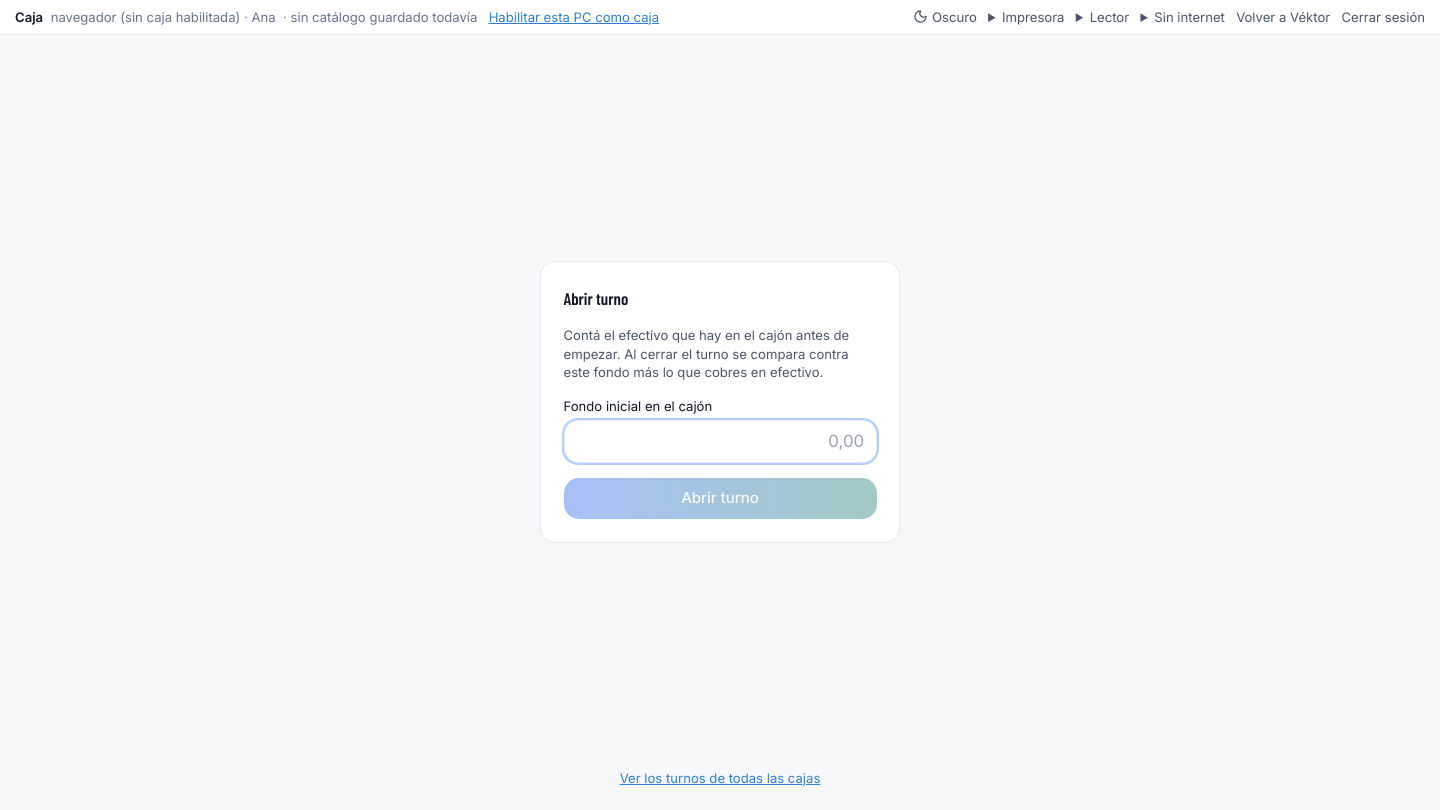
Test: apertura › si el servidor tiene otro fondo, la caja toma el real y lo avisa
Type "5000" into the field labelled "Fondo inicial" at (720, 441), box [564,420,876,463]
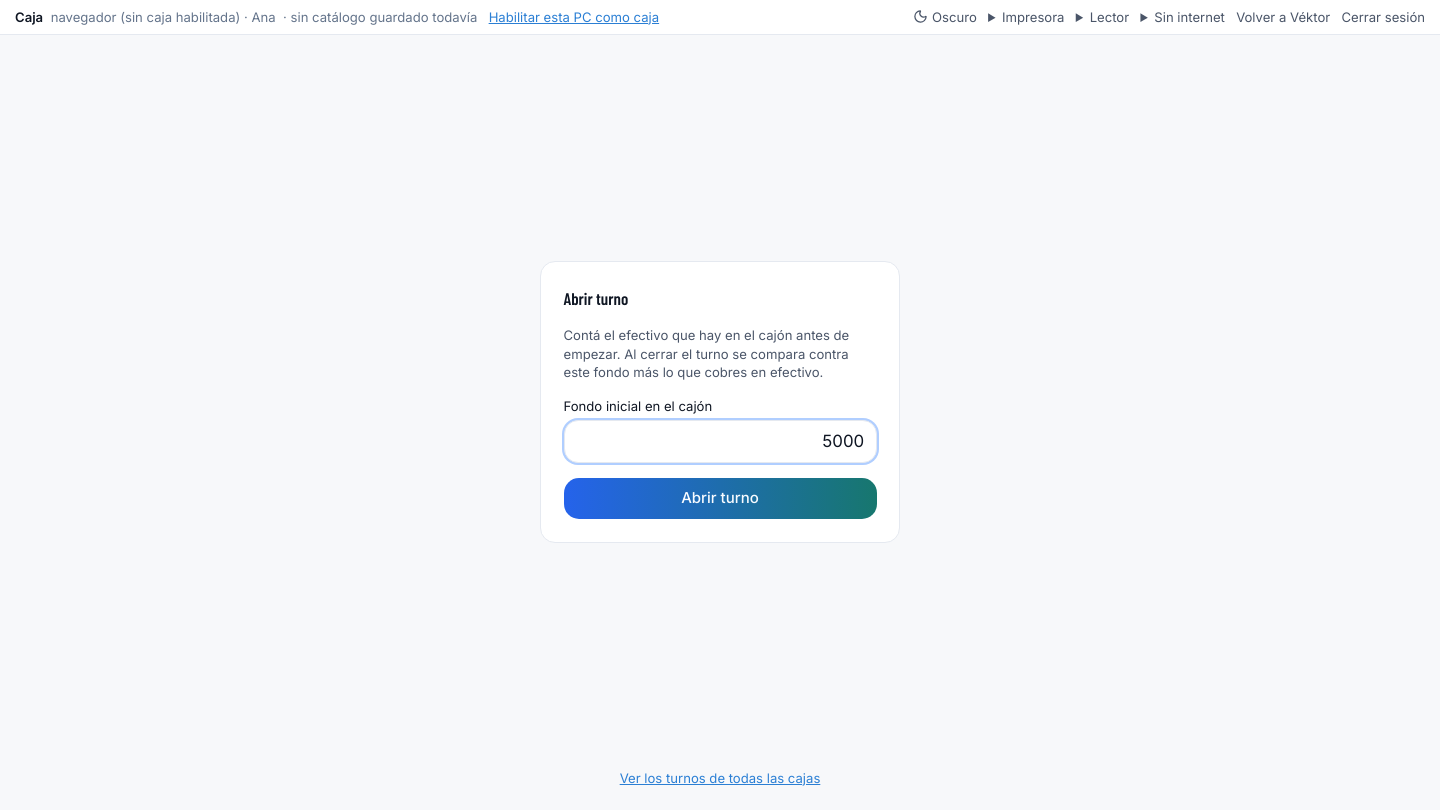
Click the button "Abrir turno" at (720, 498), box [564,478,876,519]
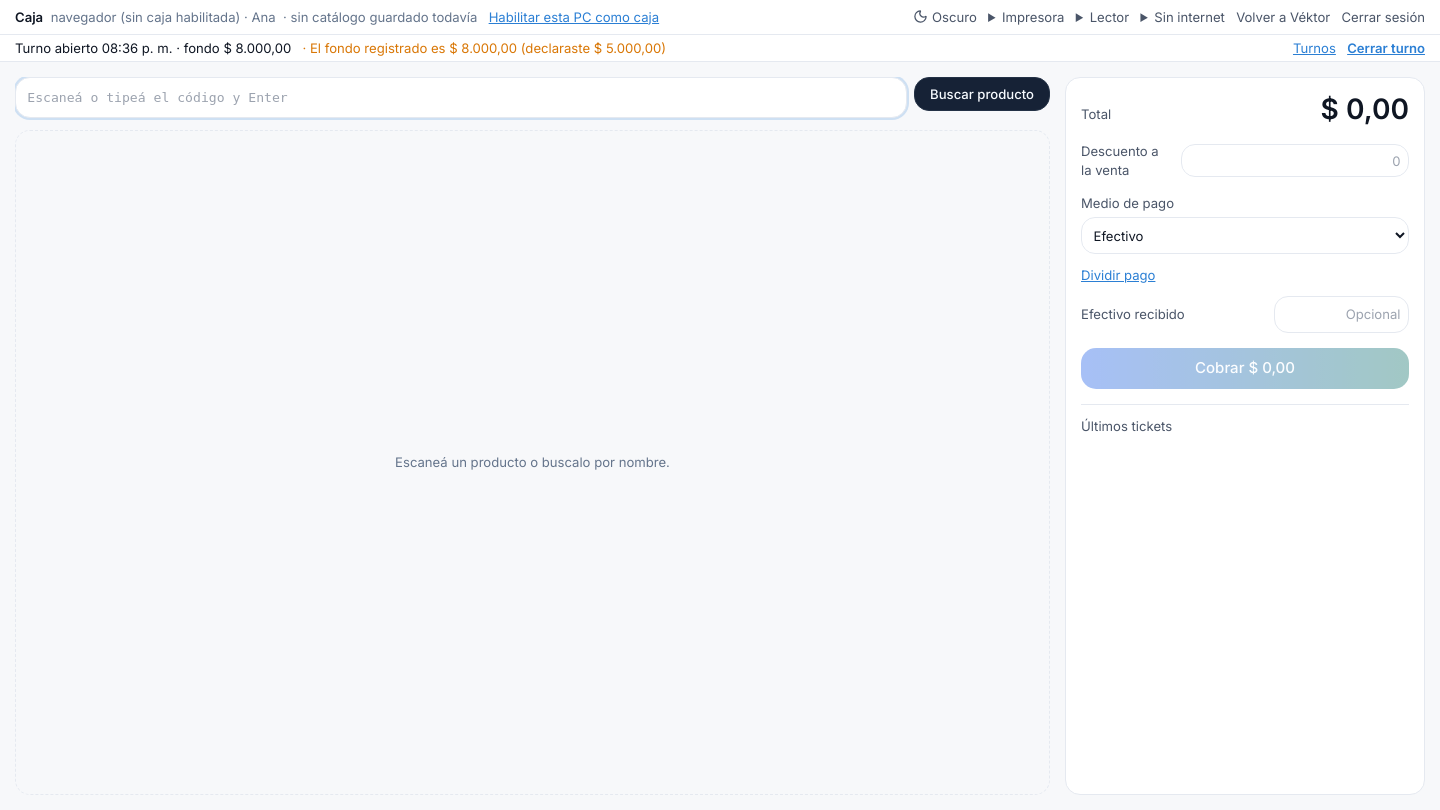
Result: the element with test id "turno-bar" shows "El fondo registrado es" at [302,40,449,56]
